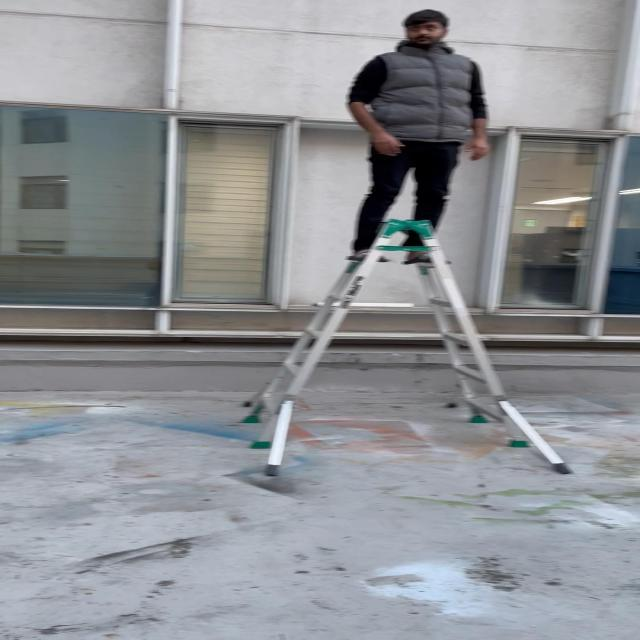boots: (240, 212, 576, 480)
vest: (341, 8, 495, 274)
